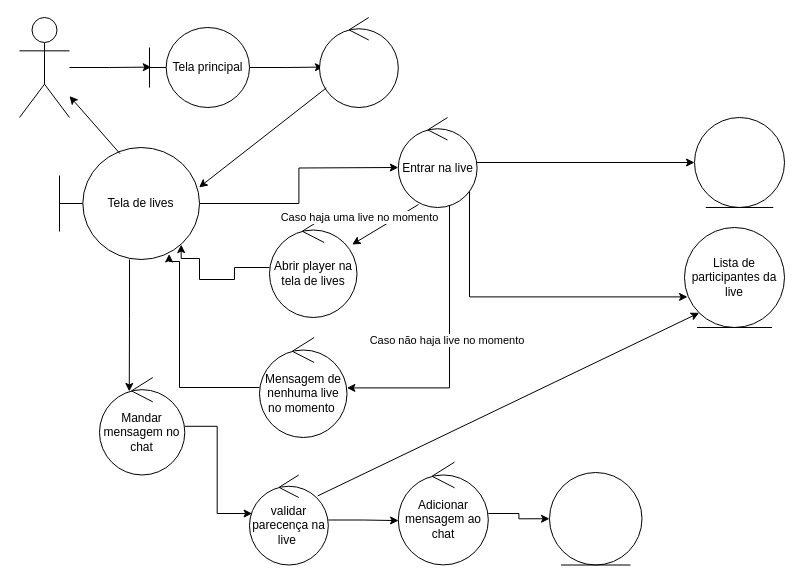
Some shapes in this 802 by 583 pixel diagram are drawn without their labels. Here are the shapes that lost their labels. From the top down, the box of each, then its label:
(18, 16, 70, 118): Estudante
(318, 16, 398, 108): Acessar tela de lives
(694, 116, 784, 208): Live ao vivo
(548, 472, 642, 565): Chat da Live
